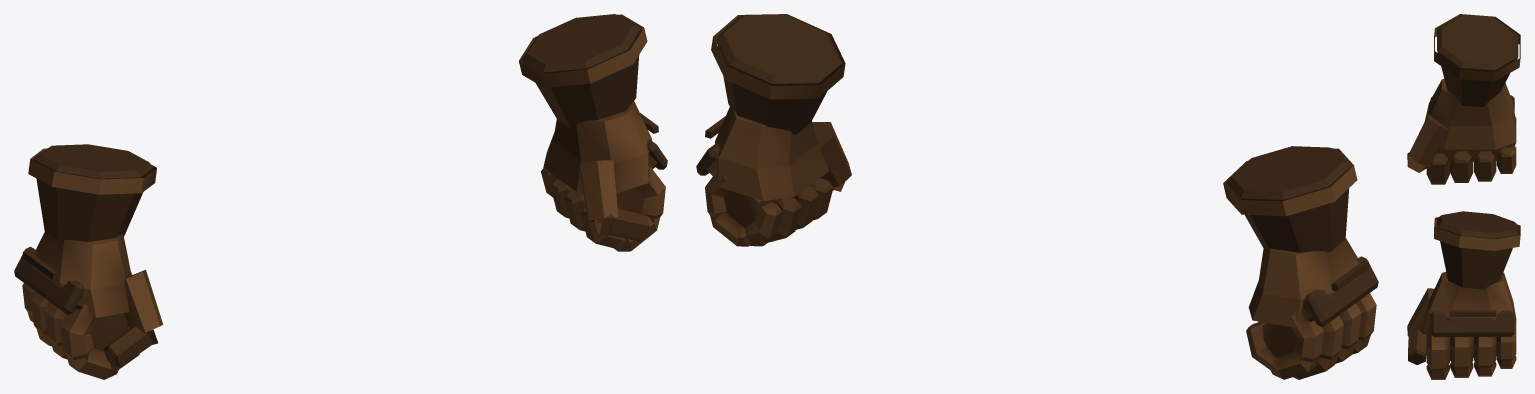
Rendered from g_gloves_f.glb.
The picture shows the model from 3 angles, left to right: view 1: azimuth 30°, elevation 25°; view 2: azimuth 150°, elevation 25°; view 3: azimuth 270°, elevation 25°; orthographic projection. The views are drawn at different scales.
Parts seen in each view (by area): view 1: ArmR_Hand, ArmL_Hand; view 2: ArmL_Hand, ArmR_Hand; view 3: ArmL_Hand, ArmR_Hand.
Part boxes in pixels (x1,y1,x2,y2): ArmR_Hand: [14, 144, 162, 379]; ArmL_Hand: [519, 14, 667, 251]; ArmL_Hand: [696, 14, 851, 246]; ArmR_Hand: [1223, 146, 1378, 379]; ArmL_Hand: [1407, 211, 1520, 379]; ArmR_Hand: [1407, 14, 1520, 184].
Bounding box in the file's own units: 0.5843 × 0.1894 × 0.1228.
